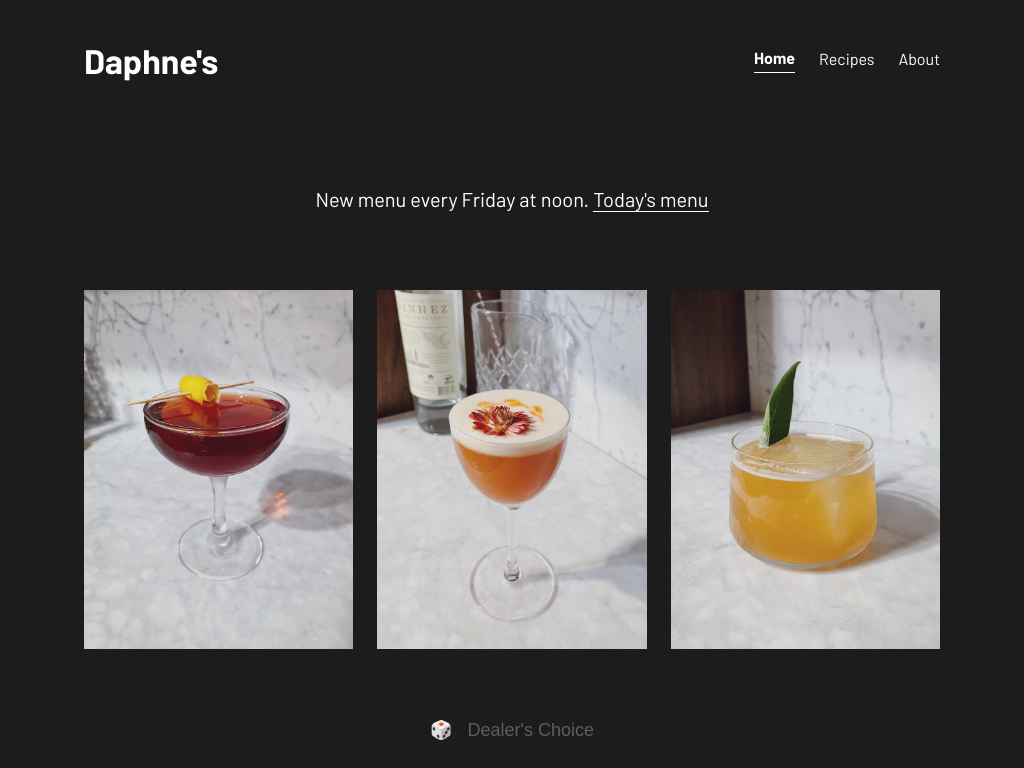
Test: Daphnes › when not logged in (USER) › home page › menu can be closed by clicking background
Click the button "Today's menu" at (651, 201), box 593,189 -> 708,212
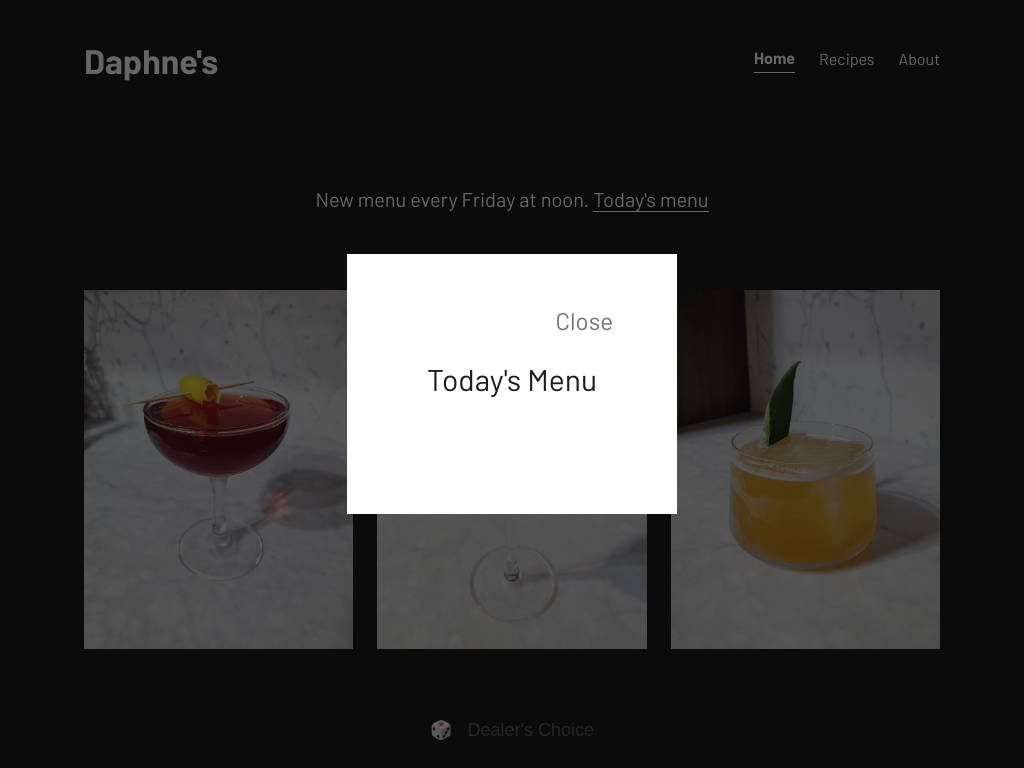
Click the text "Friday" at (512, 201), box 315,189 -> 708,212
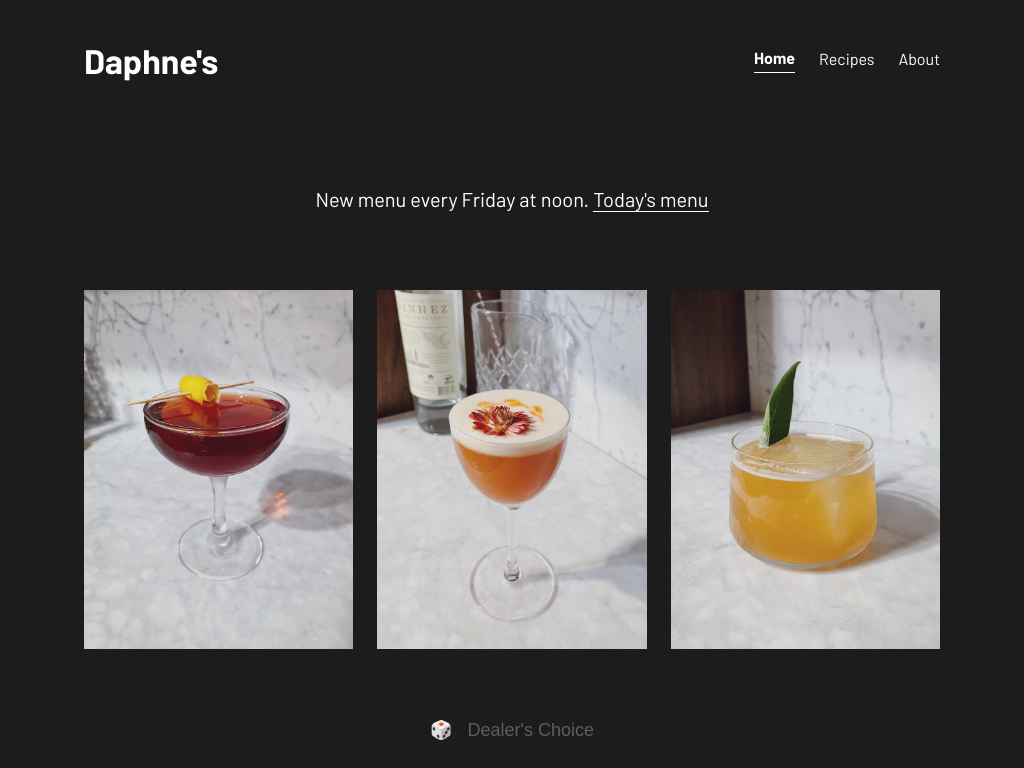
Result: the text "Close" is gone
